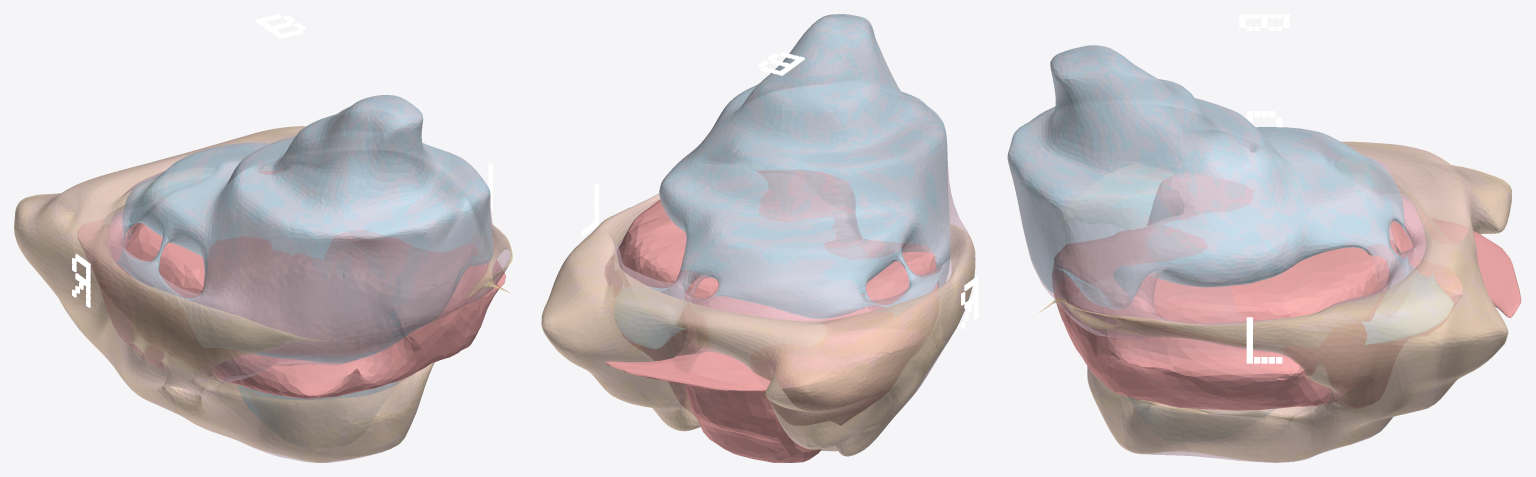
3 views of the same model, side by side, from view 1: azimuth 30°, elevation 25°; view 2: azimuth 150°, elevation 25°; view 3: azimuth 270°, elevation 25° (orthographic). The views are drawn at different scales.
Parts seen in each view (by area): view 1: prostate_gland, transition_zone, lesion_01, peripheral_zone, pv_ar_marker_B, pv_ar_marker_R; view 2: prostate_gland, transition_zone, peripheral_zone, lesion_01, pv_ar_marker_B, pv_ar_marker_R; view 3: prostate_gland, transition_zone, lesion_01, peripheral_zone, pv_ar_marker_B, pv_ar_marker_L.
Part boxes in pixels (bbox=[...]): prostate_gland: bbox=[14, 95, 511, 462]; transition_zone: bbox=[116, 95, 492, 420]; lesion_01: bbox=[77, 170, 505, 399]; peripheral_zone: bbox=[14, 126, 512, 462]; pv_ar_marker_B: bbox=[255, 14, 305, 38]; pv_ar_marker_R: bbox=[72, 254, 90, 307]; prostate_gland: bbox=[542, 14, 974, 456]; transition_zone: bbox=[614, 14, 950, 348]; peripheral_zone: bbox=[541, 193, 975, 456]; lesion_01: bbox=[604, 170, 938, 462]; pv_ar_marker_B: bbox=[758, 52, 804, 75]; pv_ar_marker_R: bbox=[961, 276, 978, 329]; prostate_gland: bbox=[1007, 45, 1511, 462]; transition_zone: bbox=[1008, 45, 1453, 416]; lesion_01: bbox=[1052, 173, 1521, 410]; peripheral_zone: bbox=[1039, 141, 1511, 462]; pv_ar_marker_B: bbox=[1239, 14, 1289, 30]; pv_ar_marker_L: bbox=[1246, 317, 1282, 363].
Bounding box in the file's own units: 0.0585 × 0.0569 × 0.0614.
